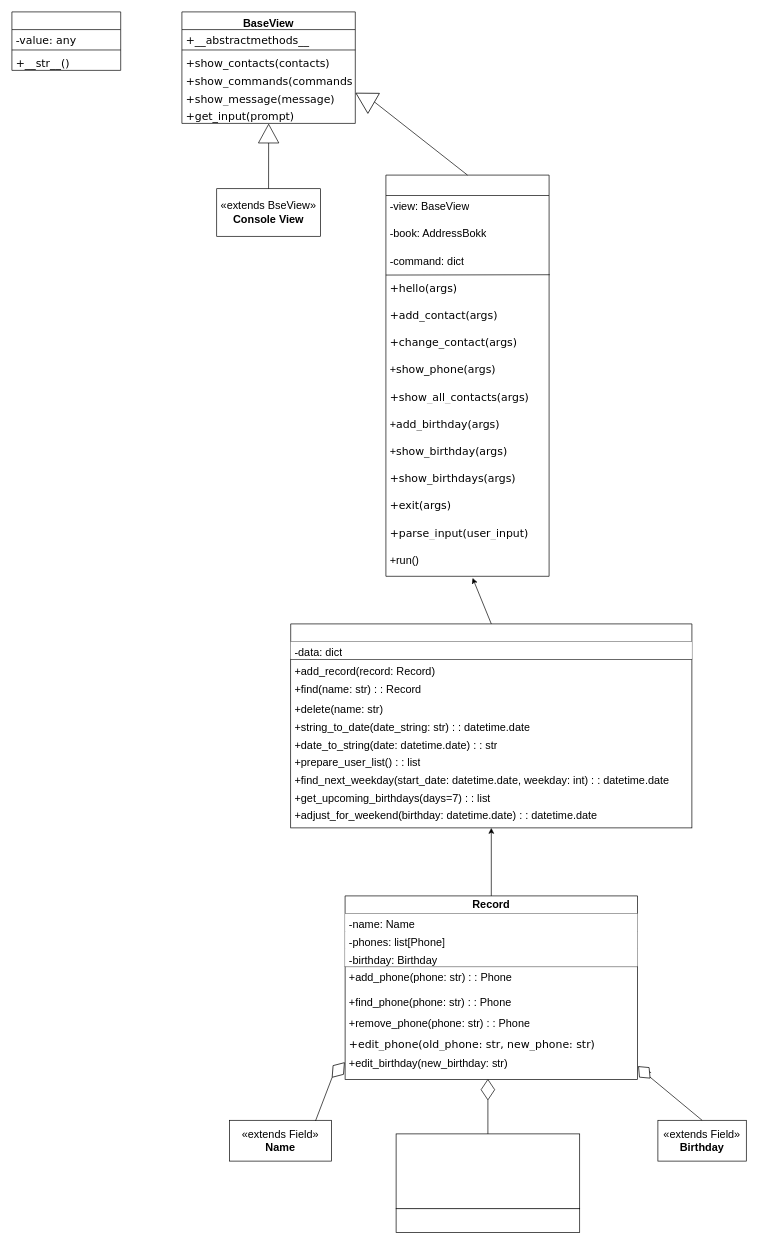
The diagram is 758 pixels wide and 1253 high, and some of its shapes have lost their labels. Here are the shapes that lost their labels. From the top down, the box of each, then its label:
(11, 11, 121, 70): Field
(385, 174, 549, 576): ContactApp
(290, 623, 692, 659): AddressBook
(395, 1133, 580, 1209): «extends Field» Phone
(395, 1208, 580, 1232): -validate_phone(phone:str) : : bool
